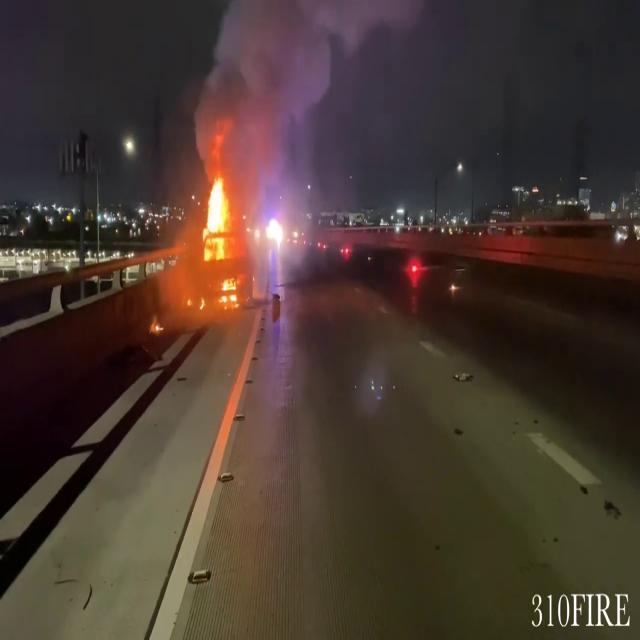Fire: (196, 172, 234, 260)
Smoke: (191, 0, 339, 209)
